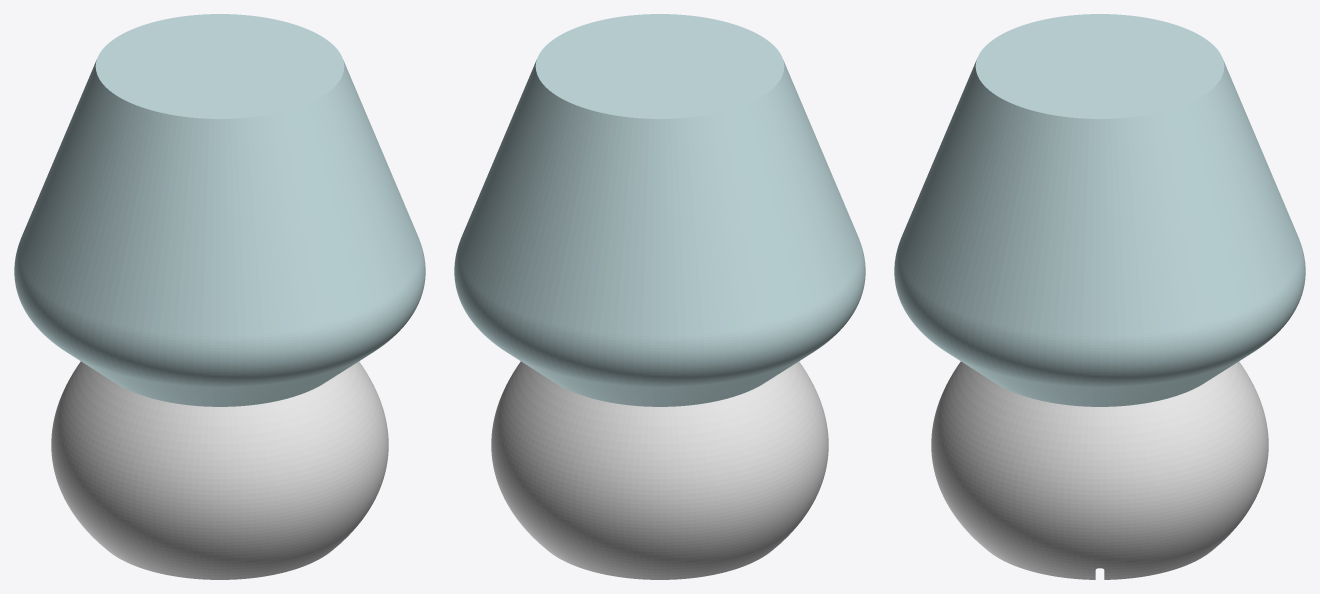
The model's file is lamp3.glb.
3 views of the same model, side by side, from view 1: azimuth 30°, elevation 25°; view 2: azimuth 150°, elevation 25°; view 3: azimuth 270°, elevation 25° (orthographic).
Visible parts, largest first — view 1: Lamp Shade, Lamp Body; view 2: Lamp Shade, Lamp Body; view 3: Lamp Shade, Lamp Body.
Part boxes in pixels (box(x1,y1,x2,y2)): Lamp Shade: box(14, 14, 425, 406); Lamp Body: box(51, 361, 388, 579); Lamp Shade: box(454, 14, 865, 406); Lamp Body: box(491, 361, 828, 579); Lamp Shade: box(894, 14, 1305, 406); Lamp Body: box(931, 361, 1268, 579).
Size of the model in its own units: 0.1894 by 0.2339 by 0.1894.
